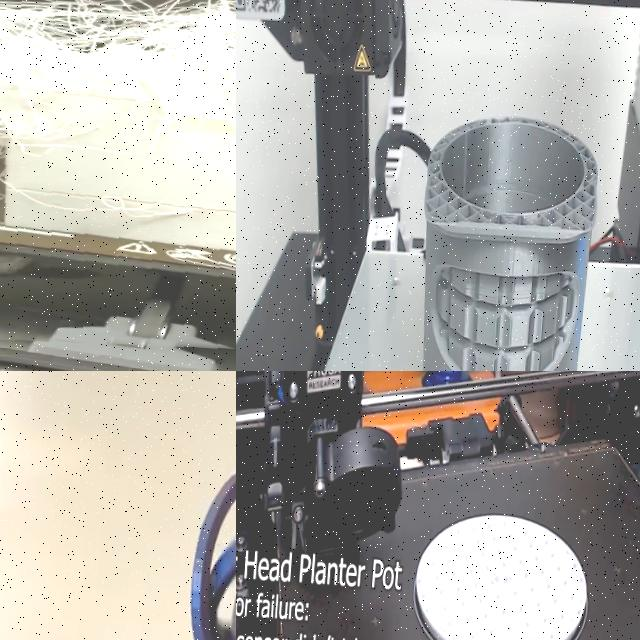spaghetti: (0, 0, 236, 371)
